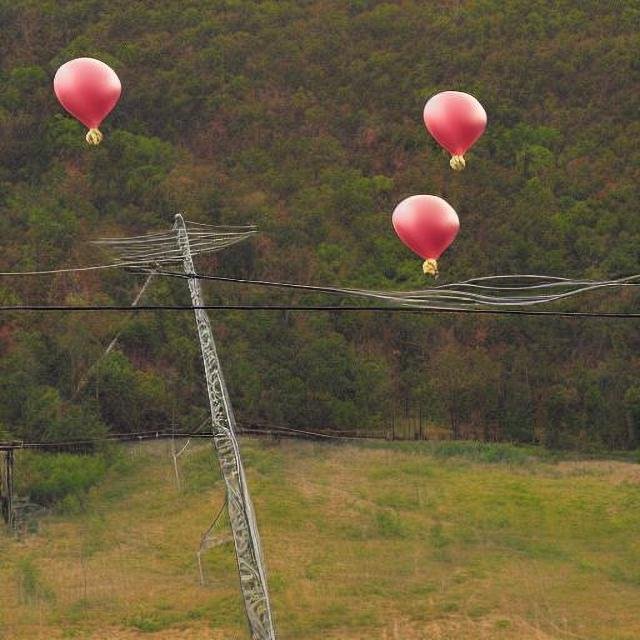balloon: (47, 52, 121, 141), (384, 189, 459, 264), (417, 88, 488, 162)
